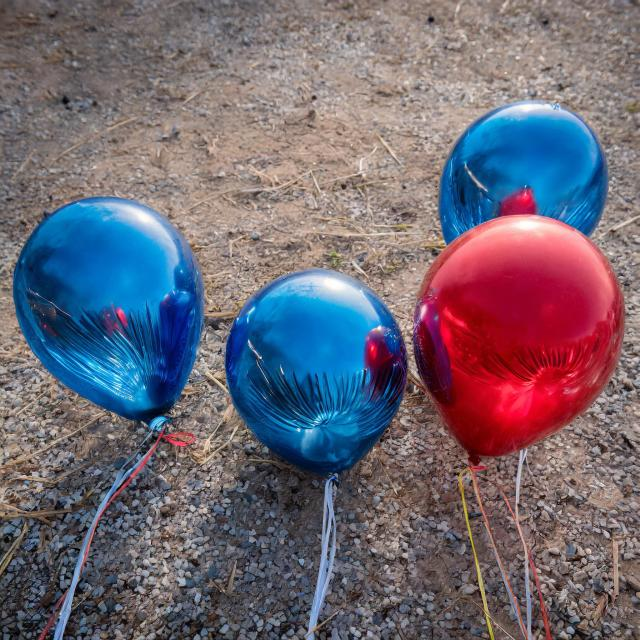blue: (17, 194, 212, 440), (225, 269, 411, 486), (438, 102, 610, 247)
red: (416, 214, 626, 469)
